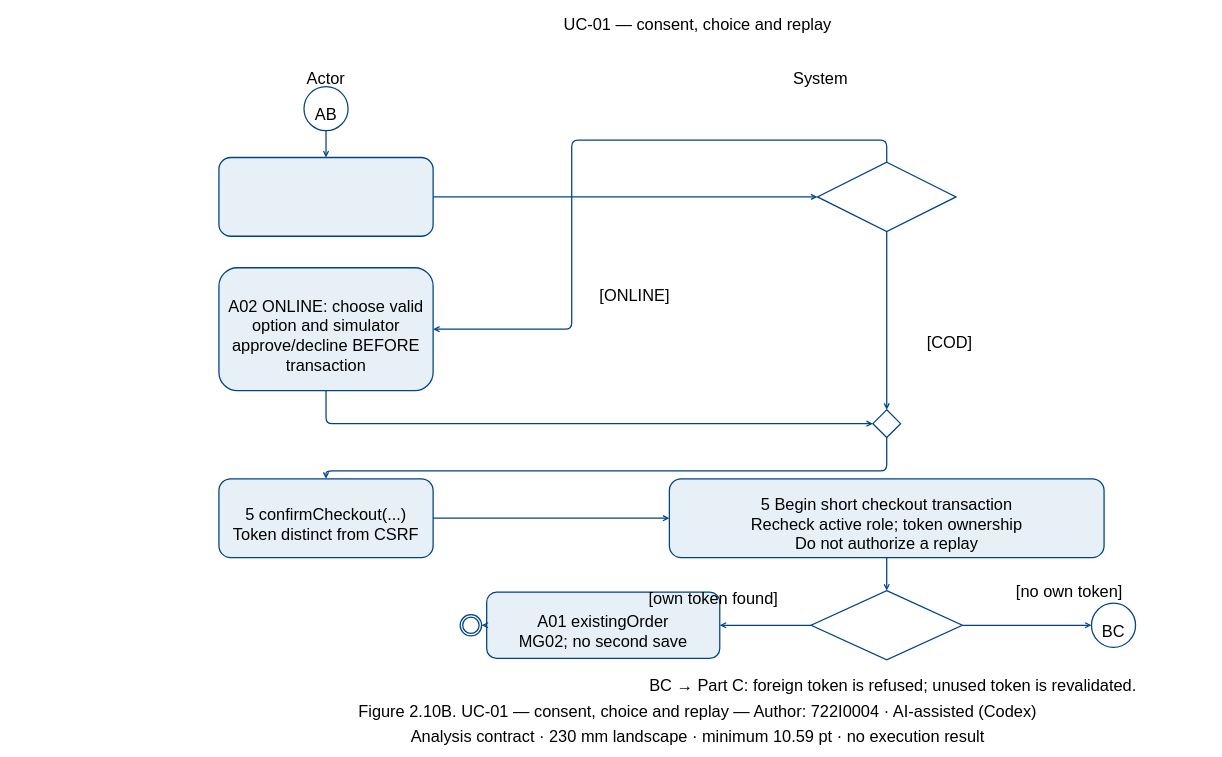
The diagram is 1222 pixels wide and 757 high, and some of its shapes have lost their labels. Each missing label, with the box of its shape:
4 Review full fingerprint + T Accept full quote: (218, 157, 433, 237)
Method?: (816, 161, 956, 232)
Token status?: (810, 590, 963, 660)
